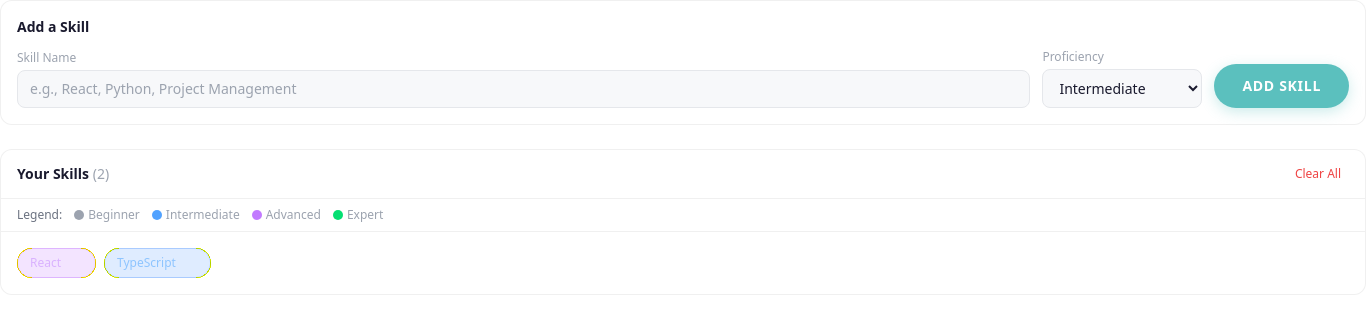
SkillProfile › prevents adding duplicate skill names
Expected: the text "React" is shown, [30,255,61,271]
Type "react" into the field labelled "Skill Name" at (524, 89), box [17,70,1030,108]
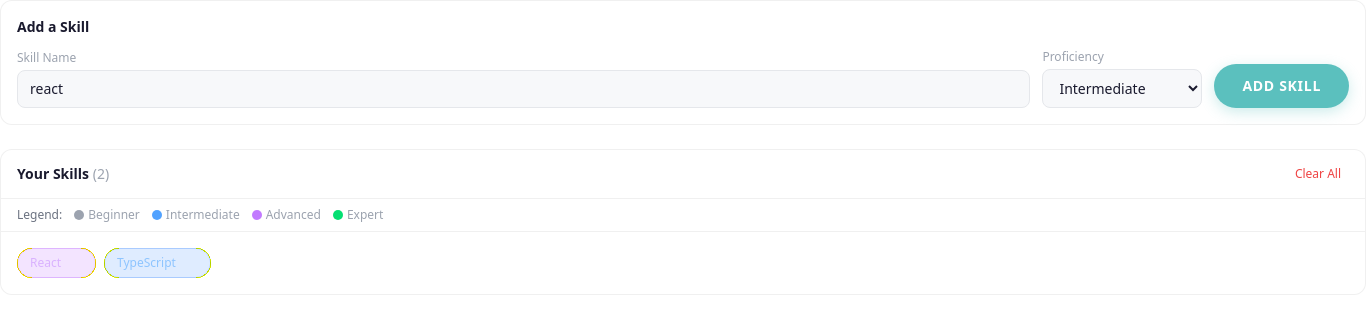
Click the button "Add Skill" at (1282, 86), box [1214,64,1349,108]
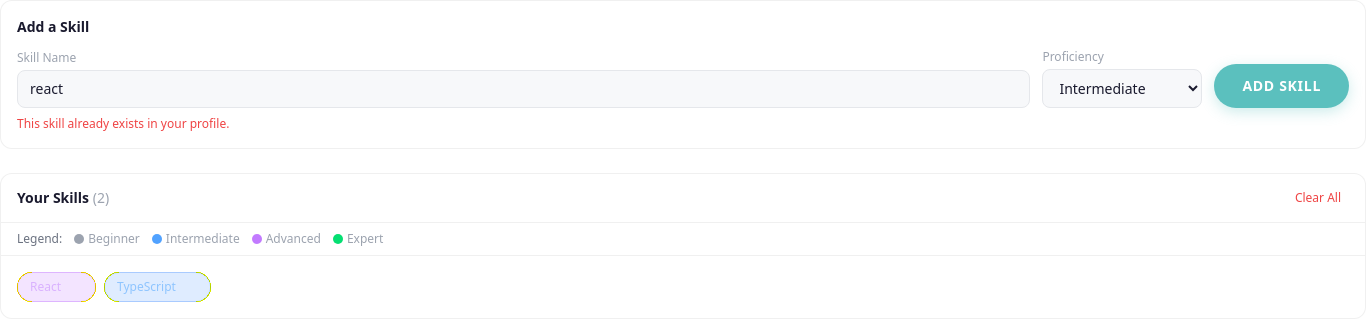
Now the text "This skill already exists in your profile." is shown, box [17,115,229,132]
